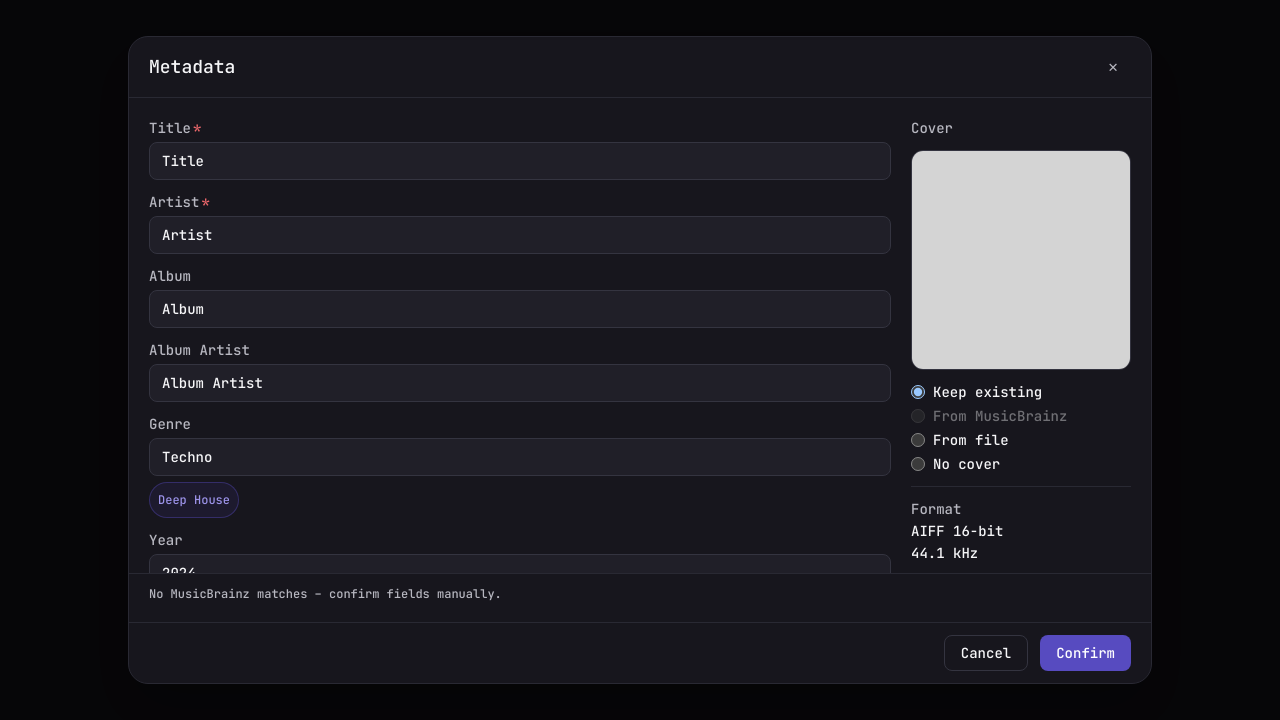
MetadataEditor › disables Confirm when a required field is empty
Expected: the button "Confirm" is enabled, [1040,635,1131,671]
Clear the field labelled "Title*": (520,161) [149,142,891,180]
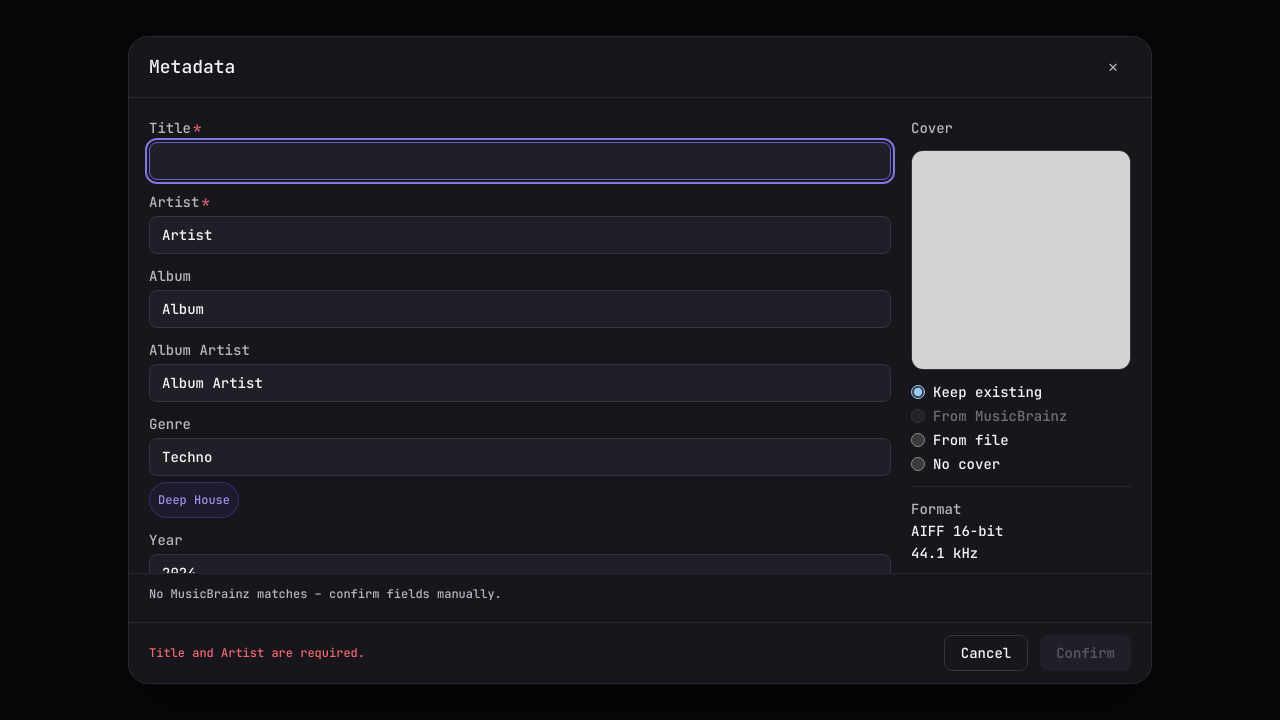
Result: the button "Confirm" is disabled at [1040,635,1131,671]
